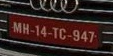1: (35, 24, 40, 36)
4: (80, 30, 88, 42), (41, 25, 47, 38)
7: (88, 31, 96, 43)
9: (73, 30, 80, 41)
C: (59, 28, 67, 40)
H: (22, 22, 30, 35)
M: (13, 21, 22, 33)
T: (51, 26, 59, 39)
